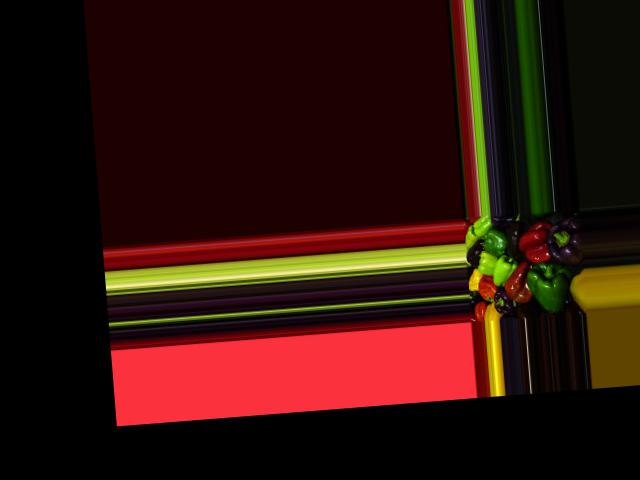bell_pepper: (489, 287, 516, 318)
